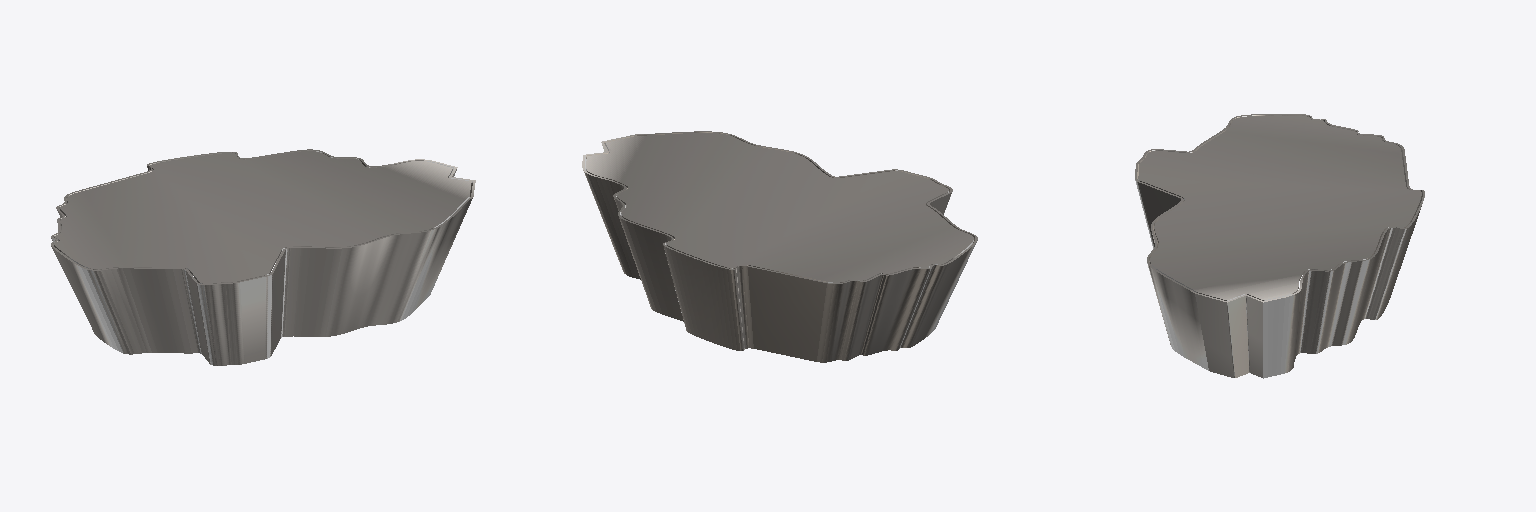
3 views of the same model, side by side, from view 1: azimuth 30°, elevation 25°; view 2: azimuth 150°, elevation 25°; view 3: azimuth 270°, elevation 25° (orthographic).
Visible parts, largest first — view 1: solid_001; view 2: solid_001; view 3: solid_001.
Boxes of the visible parts, <box> form: solid_001: <box>51,149,475,365</box>; solid_001: <box>582,131,977,362</box>; solid_001: <box>1135,114,1424,378</box>.
Bounding box in the file's own units: 2 × 0.4718 × 1.3.
1 materials, 1 textured.